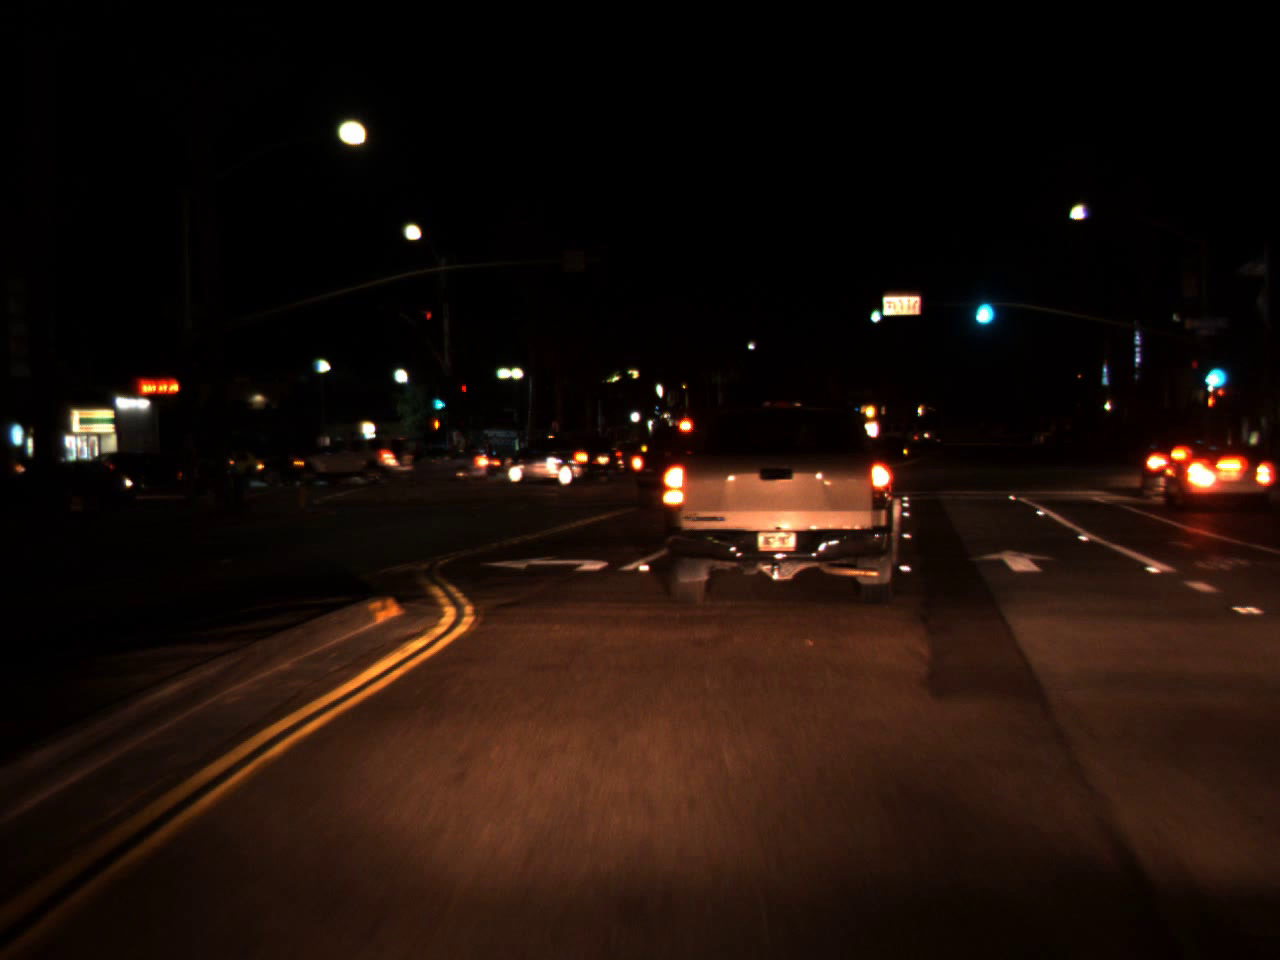go: (967, 283, 997, 331), (1201, 346, 1228, 394), (428, 382, 449, 418), (866, 296, 882, 326)
